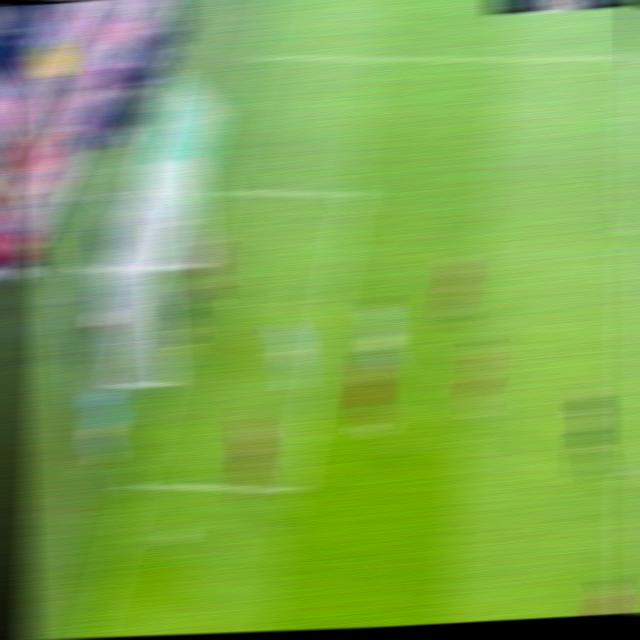bigarea_top_inner: (620, 47, 640, 68)
bigarea_top_outter: (247, 49, 273, 66)
bottom_arc_area_intersection: (607, 455, 640, 490)
smallarea_bottom_inner: (275, 471, 315, 505)
smallarea_bottom_outter: (118, 467, 155, 501)
smallarea_top_inner: (333, 180, 370, 211)
smallarea_top_outter: (204, 176, 239, 205)
top_arc_area_intersection: (610, 210, 640, 244)
